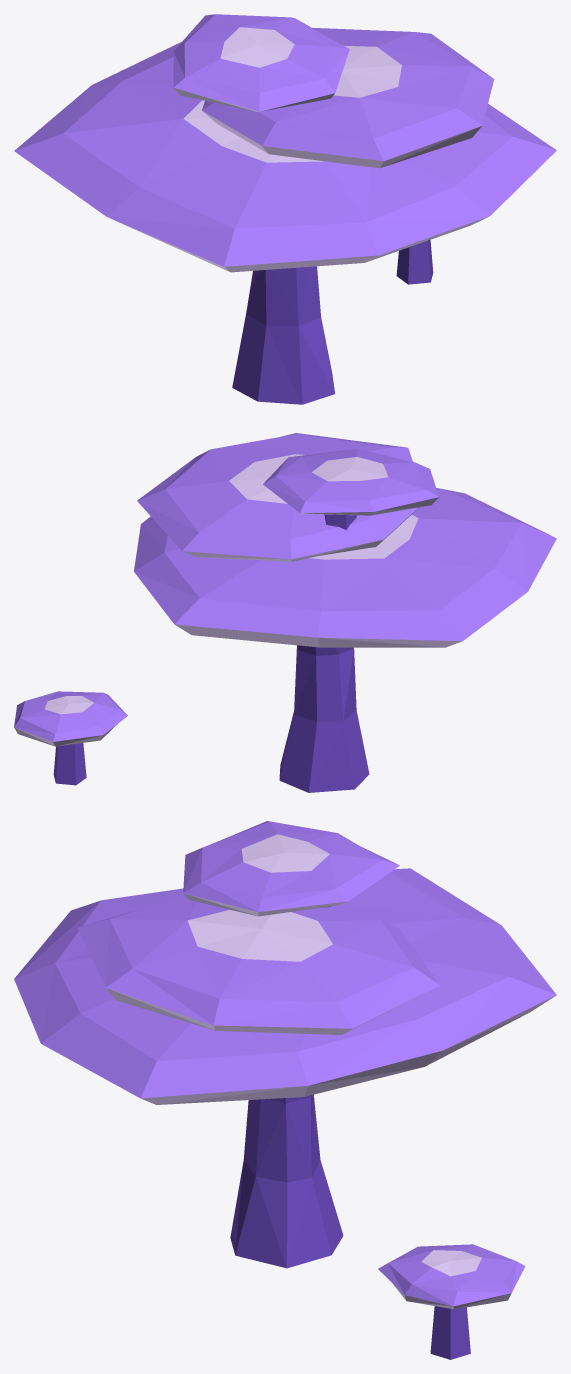
File: coral_mushroom_purple.fbx
3 views of the same model, one above another, from view 1: azimuth 30°, elevation 25°; view 2: azimuth 150°, elevation 25°; view 3: azimuth 270°, elevation 25° (orthographic). The views are drawn at different scales.
Parts seen in each view (by area): view 1: coral_mushroom_purple; view 2: coral_mushroom_purple; view 3: coral_mushroom_purple.
Boxes of the visible parts, x1=… form: coral_mushroom_purple: x1=14, y1=14, x2=556, y2=404; coral_mushroom_purple: x1=14, y1=433, x2=556, y2=792; coral_mushroom_purple: x1=14, y1=821, x2=556, y2=1359.
Bounding box in the file's own units: 1957 × 1366 × 1788.
1 material, 1 textured.
